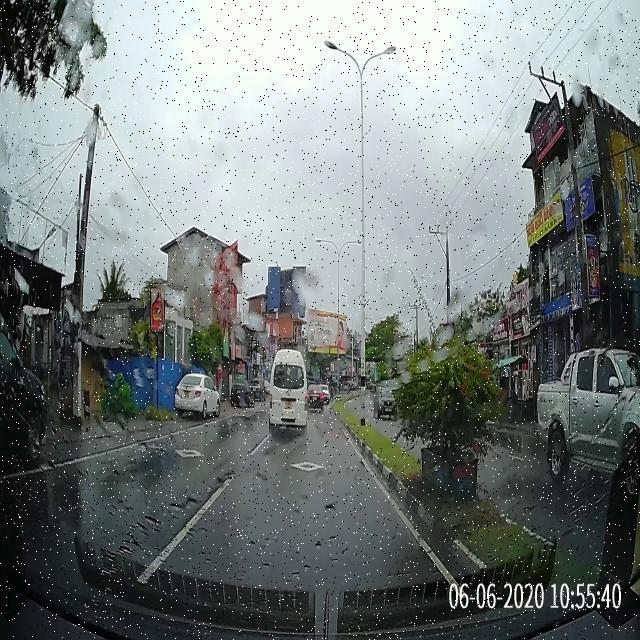diamond: (236, 459, 376, 475)
